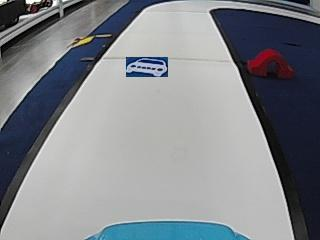bridge: (248, 49, 294, 77)
